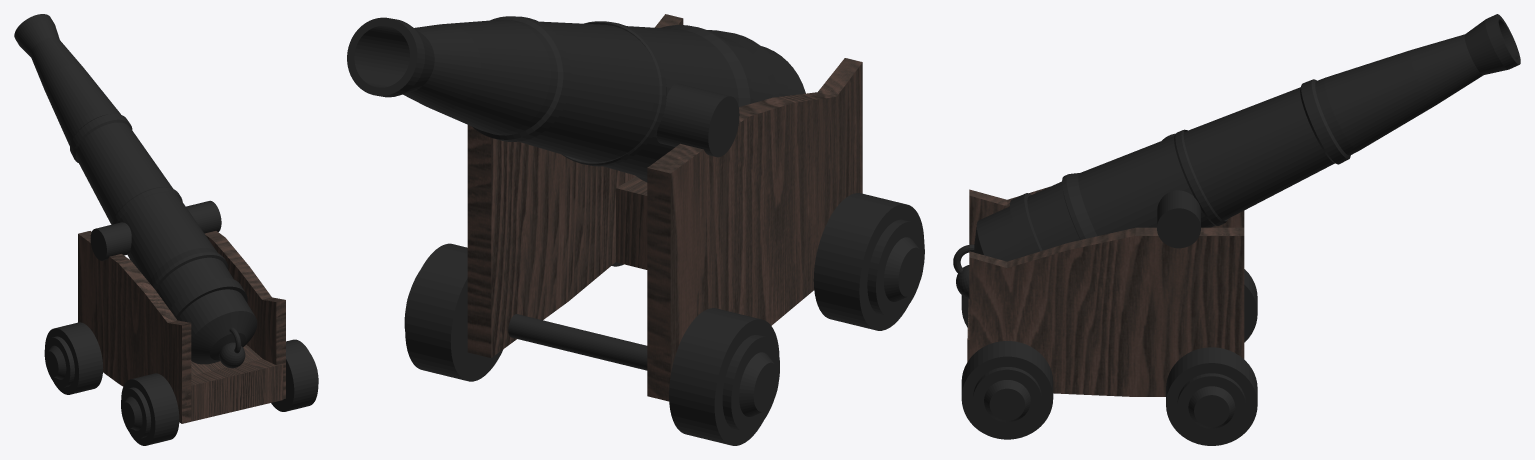
File: cannon.gltf
3 renders of one model, left to right at view 1: azimuth 30°, elevation 25°; view 2: azimuth 150°, elevation 25°; view 3: azimuth 270°, elevation 25°, orthographic. The views are drawn at different scales.
Parts seen in each view (by area): view 1: Cylinder, Cube.001, Cylinder.001, Cylinder.002; view 2: Cube.001, Cylinder, Cylinder.002, Cylinder.001; view 3: Cylinder, Cube.001, Cylinder.002, Cylinder.001.
Part boxes in pixels (x1=…): Cylinder: x1=14, y1=14, x2=257, y2=368; Cube.001: x1=78, y1=231, x2=285, y2=423; Cylinder.001: x1=121, y1=339, x2=318, y2=445; Cylinder.002: x1=44, y1=322, x2=103, y2=394; Cube.001: x1=467, y1=14, x2=862, y2=401; Cylinder: x1=347, y1=16, x2=805, y2=182; Cylinder.002: x1=404, y1=243, x2=779, y2=445; Cylinder.001: x1=611, y1=193, x2=924, y2=330; Cylinder: x1=953, y1=14, x2=1520, y2=298; Cube.001: x1=967, y1=186, x2=1244, y2=396; Cylinder.002: x1=1166, y1=269, x2=1257, y2=445; Cylinder.001: x1=961, y1=295, x2=1053, y2=439.
Size of the model in its own units: 9.79 by 14.32 by 19.6.
Materials: 3 (1 with a texture image).
